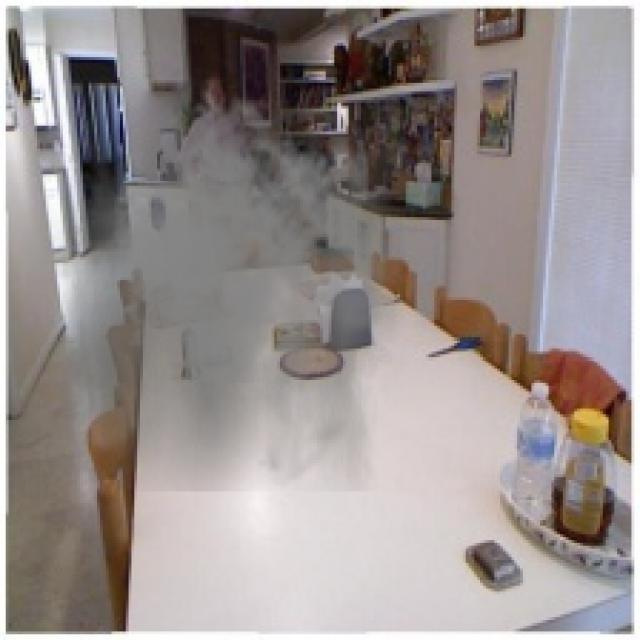Smoke: (57, 86, 406, 492)
